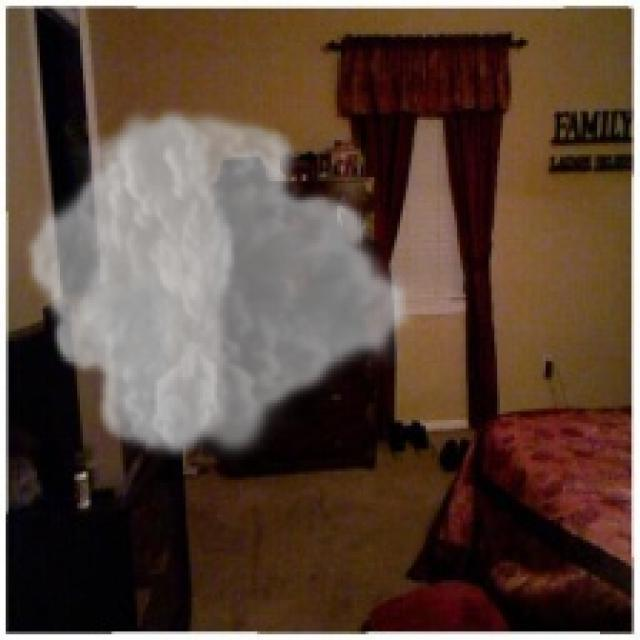Smoke: (22, 100, 418, 466)
